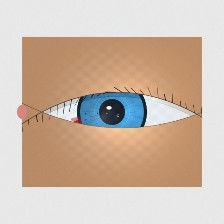hemorrhage_spot: (56, 100, 130, 159)
